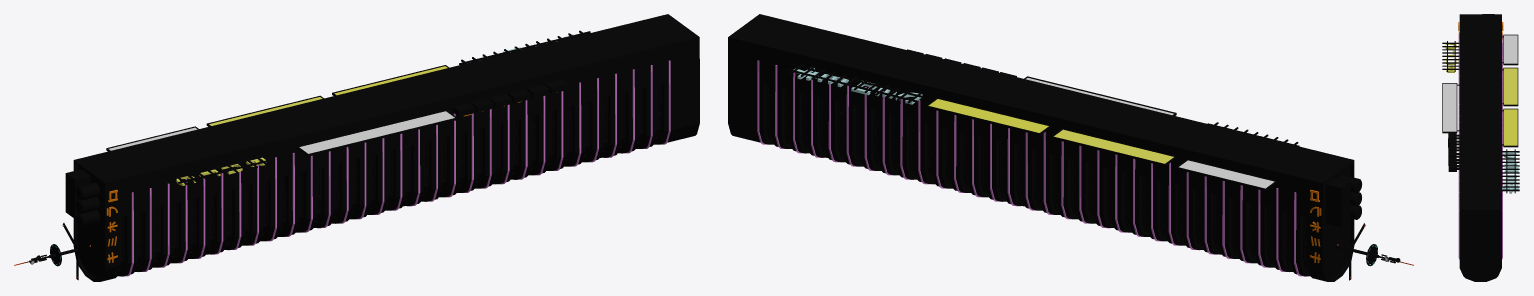
File: combined.glb
The picture shows the model from 3 angles, left to right: view 1: azimuth 30°, elevation 25°; view 2: azimuth 150°, elevation 25°; view 3: azimuth 270°, elevation 25°; orthographic projection. The views are drawn at different scales.
Visible parts, largest first — view 1: Text.006; view 2: Text.006; view 3: Text.006.
Part boxes in pixels (x1,y1,x2,y2): Text.006: (14, 14, 699, 281); Text.006: (728, 14, 1413, 281); Text.006: (1442, 14, 1519, 281).
Bounding box in the file's own units: 177 × 27.53 × 26.26.
